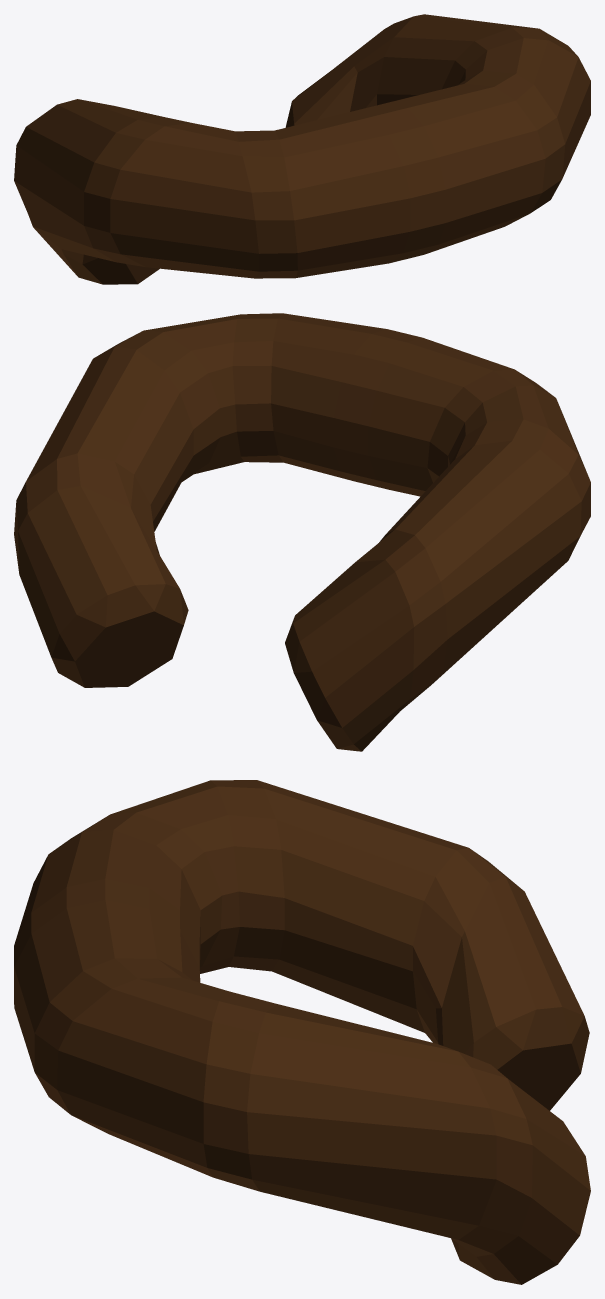
The model's file is Character_Furr.fbx.
The picture shows the model from 3 angles, top to bottom: view 1: azimuth 30°, elevation 25°; view 2: azimuth 150°, elevation 25°; view 3: azimuth 270°, elevation 25°; orthographic projection. The views are drawn at different scales.
Parts seen in each view (by area): view 1: Character_Furr; view 2: Character_Furr; view 3: Character_Furr.
Part boxes in pixels (x1,y1,x2,y2): Character_Furr: [14, 14, 590, 284]; Character_Furr: [14, 313, 590, 751]; Character_Furr: [14, 780, 590, 1284].
Bounding box in the file's own units: 42.23 × 20.99 × 34.61.
